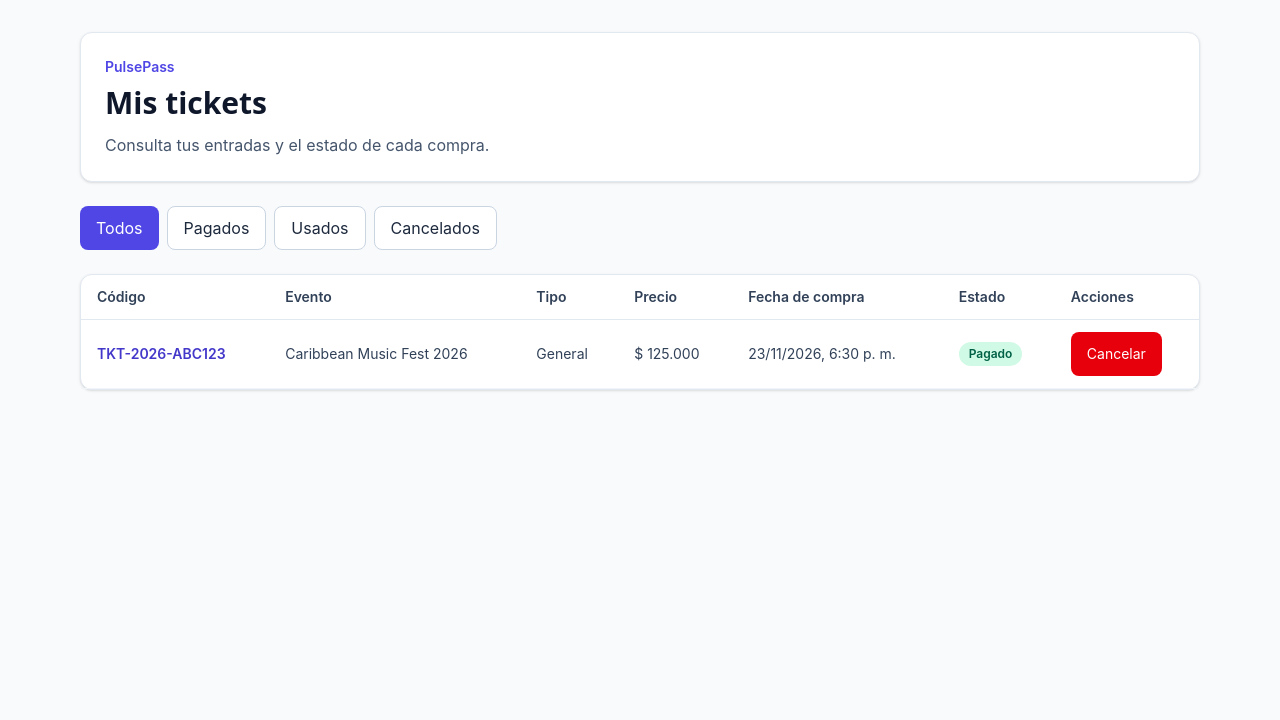
Test case: flujos USER de tickets › TEST-FE-TKT-007 cancela un ticket PAID y actualiza la lista
expect the text "Caribbean Music Fest 2026" is shown: met, box [269,320,520,388]
Step 1. Click the button with aria-label "Cancelar ticket TKT-2026-ABC123" → (1116, 354), box [1071,332,1162,376]
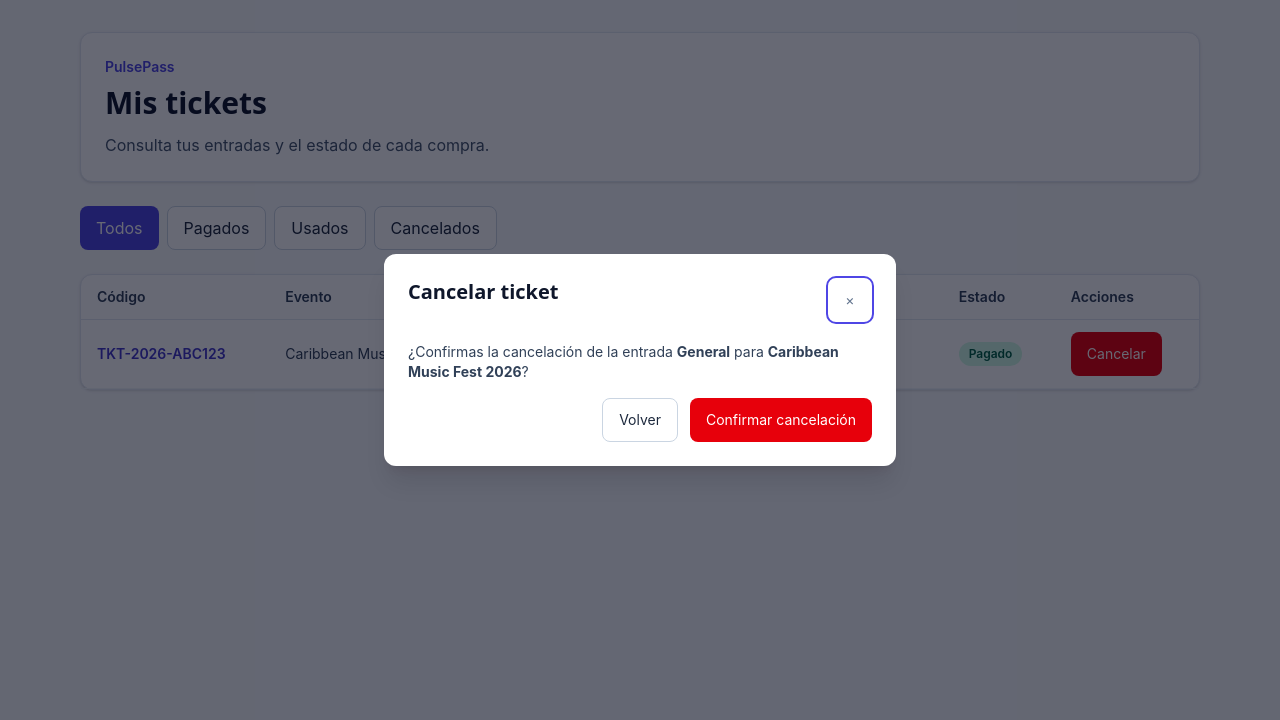
expect the dialog "Cancelar ticket" is shown: met, box [384,254,896,466]
Step 2. Click the button "Confirmar cancelación" → (781, 420), box [690,398,872,442]
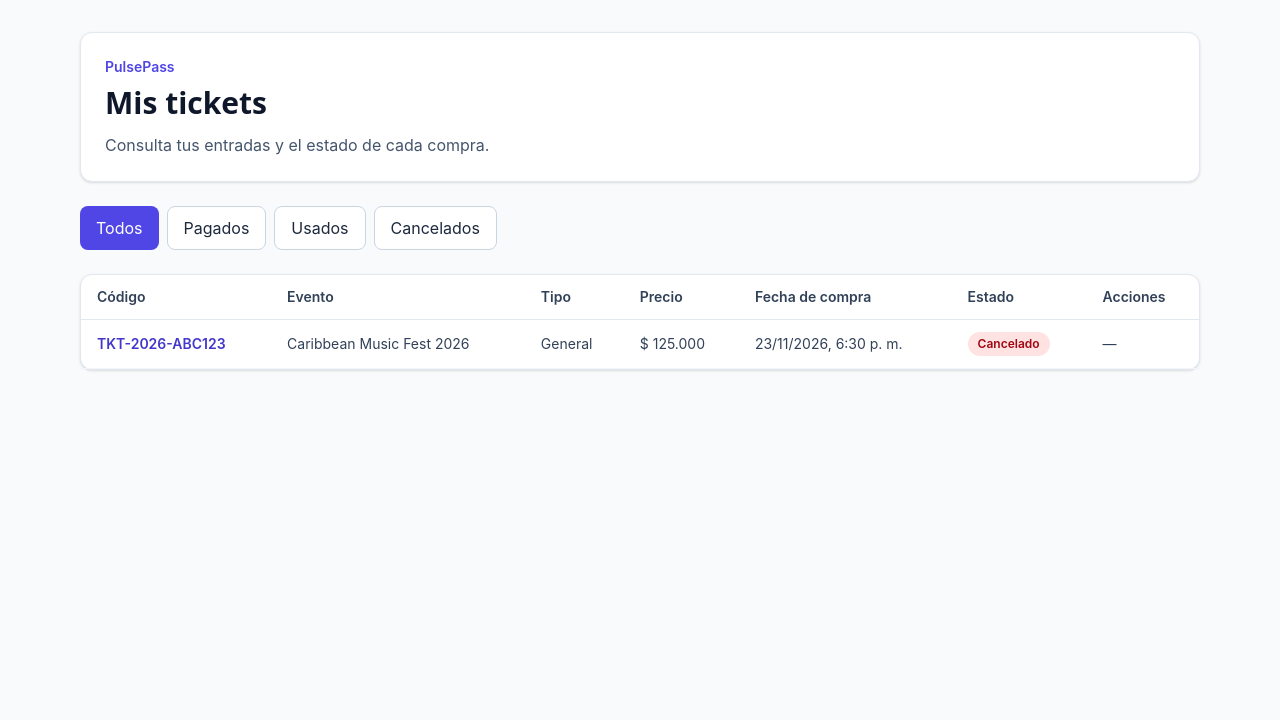
expect the text "Cancelado" is shown: met, box [968,332,1050,356]
expect the heading "Cancelar ticket" is gone: met
